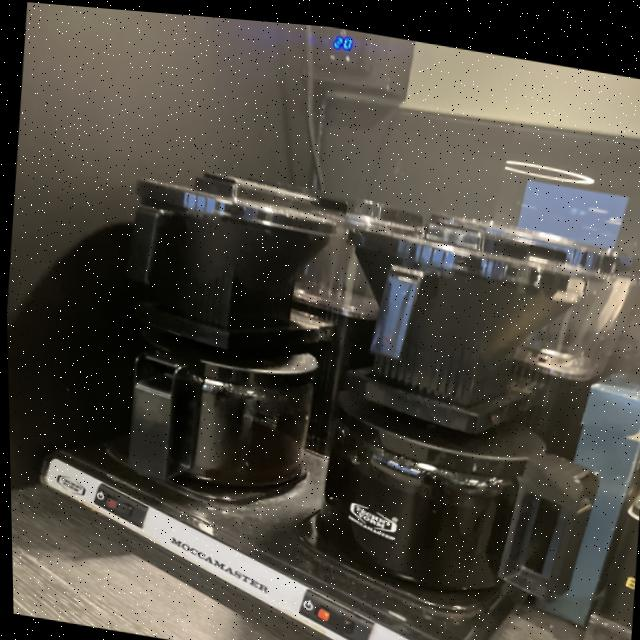coffee: (308, 374, 553, 610), (87, 305, 327, 506)
